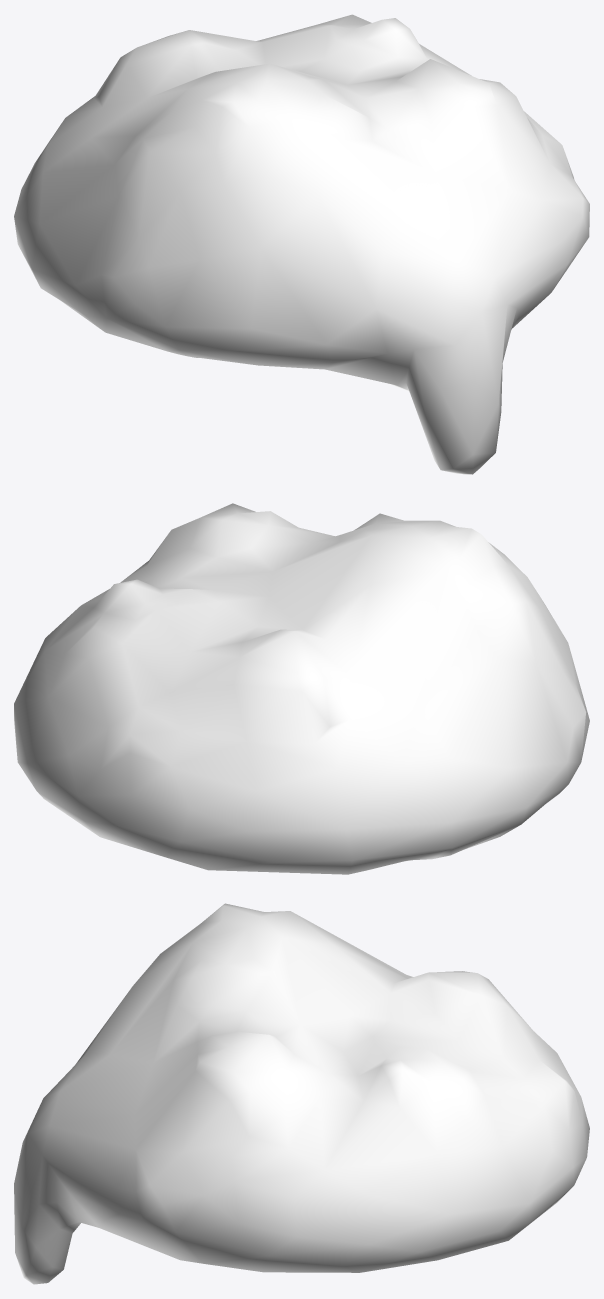
File: foam.fbx
3 views of the same model, one above another, from view 1: azimuth 30°, elevation 25°; view 2: azimuth 150°, elevation 25°; view 3: azimuth 270°, elevation 25° (orthographic). The views are drawn at different scales.
Visible parts, largest first — view 1: foam; view 2: foam; view 3: foam.
Boxes of the visible parts, x1,y1,x2,y2 form: foam: (14,14,589,474); foam: (14,503,589,874); foam: (14,903,589,1284).
Size of the model in its own units: 154 by 100 by 166.
